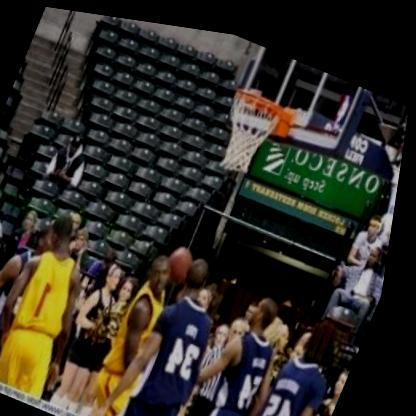basketball: (166, 233, 210, 283)
